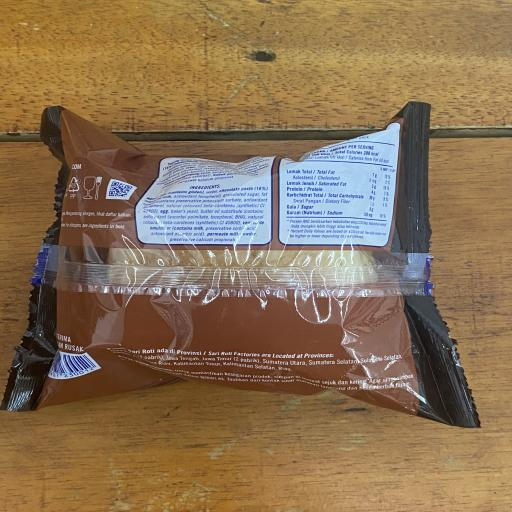Sari Roti Classic Choco Bun: (4, 113, 466, 411)
